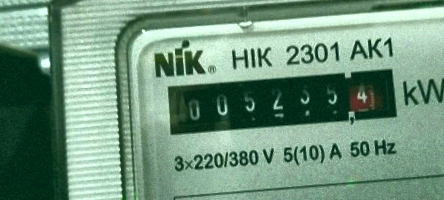0: (184, 95, 203, 122), (213, 90, 229, 117)
2: (268, 84, 284, 110)
3: (295, 80, 312, 106)
4: (352, 78, 370, 105)
5: (322, 78, 340, 106), (240, 87, 257, 114)
screen: (155, 55, 409, 147)
